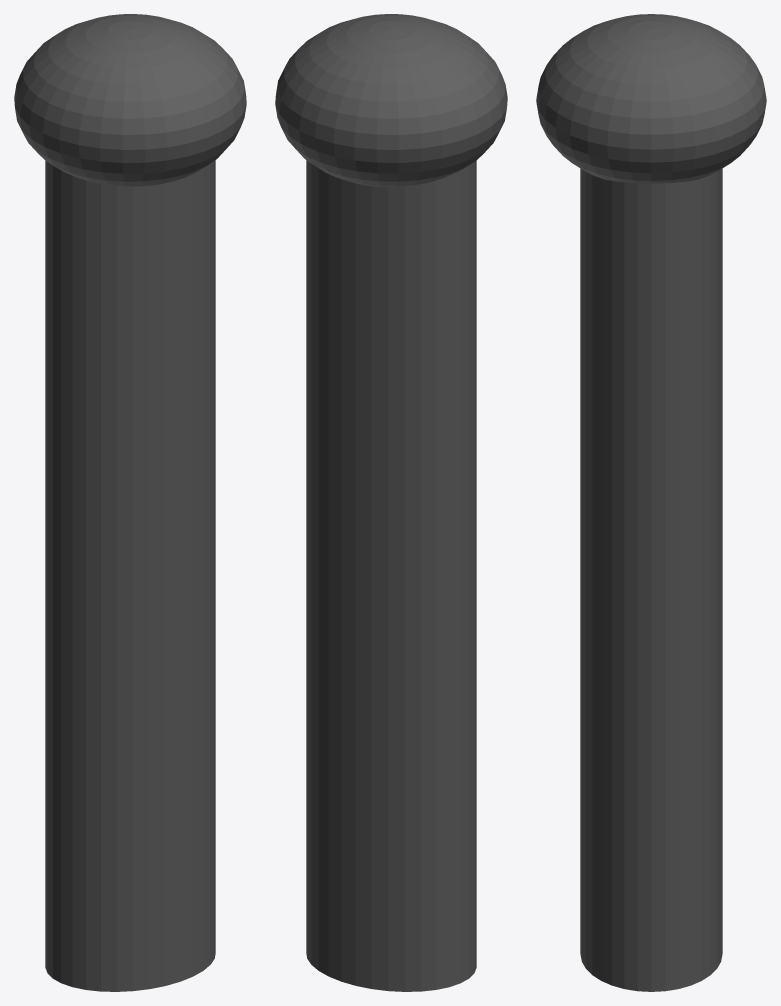
The model's file is verticalBar.obj.
The picture shows the model from 3 angles, left to right: view 1: azimuth 30°, elevation 25°; view 2: azimuth 150°, elevation 25°; view 3: azimuth 270°, elevation 25°; orthographic projection.
Parts seen in each view (by area): view 1: 円柱.001; view 2: 円柱.001; view 3: 円柱.001.
Part boxes in pixels (x1,y1,x2,y2): 円柱.001: (14, 14, 246, 991); 円柱.001: (275, 14, 507, 991); 円柱.001: (536, 14, 766, 991).
Size of the model in its own units: 0.4194 by 1.84 by 0.4168.
1 material, 1 textured.
